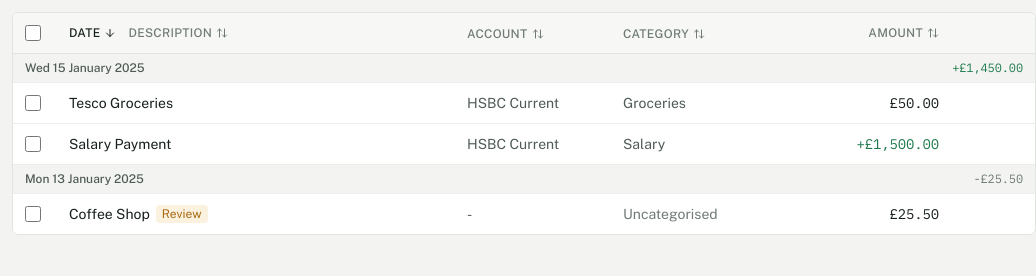
Scenario: TransactionTable › selection › shift-click selects the range from the last clicked row
Click the checkbox named "Select Tesco Groceries".
click(33, 103)  # box [25,95,41,111]
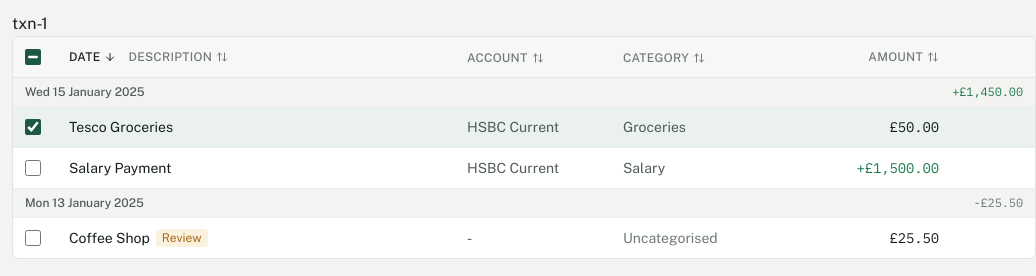
Click the checkbox named "Select Coffee Shop".
click(33, 238)  # box [25,230,41,246]
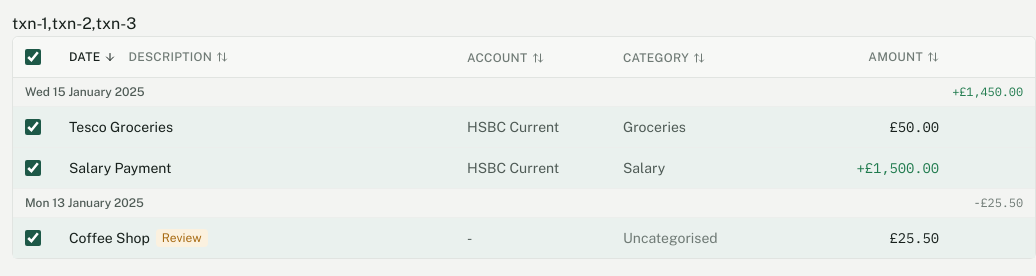
Expected: the text with test id "selected" reads "txn-1,txn-2,txn-3", [12,14,136,33]
